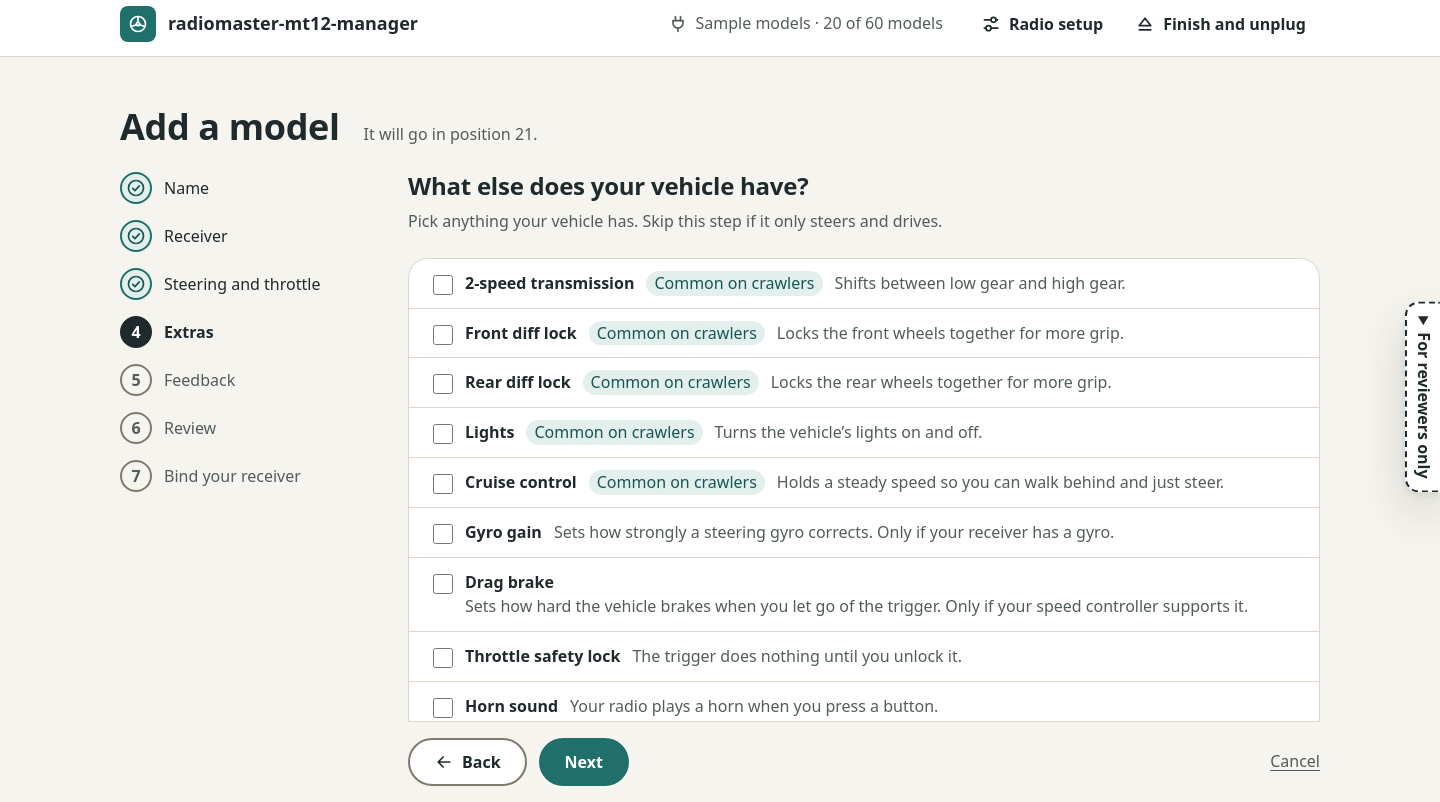
it: Step 4 lists the extras, opens the questions for a picked one, and shows a taken control as taken
Expected: the heading "What else does your vehicle have?" is shown, [408,169,808,202]
Expected: the text "Common on crawlers" is shown 5 times, [646,271,822,296]; [589,321,765,345]; [583,370,759,395]; [526,420,703,445]; [589,470,765,495]
What coordinates should you click on to do the following:
click the checkbox labelled "Lights"
I would click on:
 (443, 434)
Its box is [433,424,453,444].
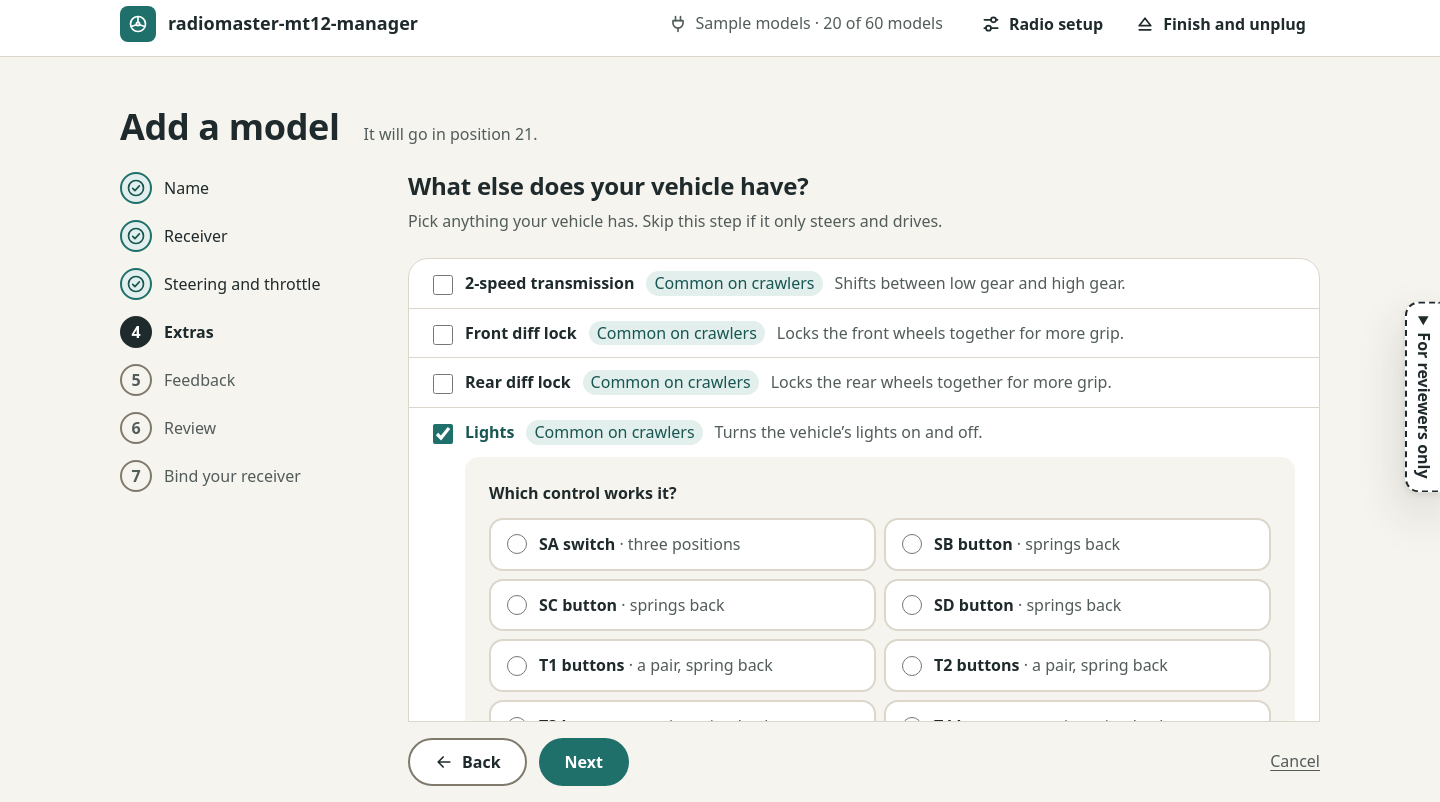
What coordinates should you click on to do the following:
click the radio button labelled "SB button · springs back"
I would click on:
 (912, 544)
Its box is [902,534,922,554].
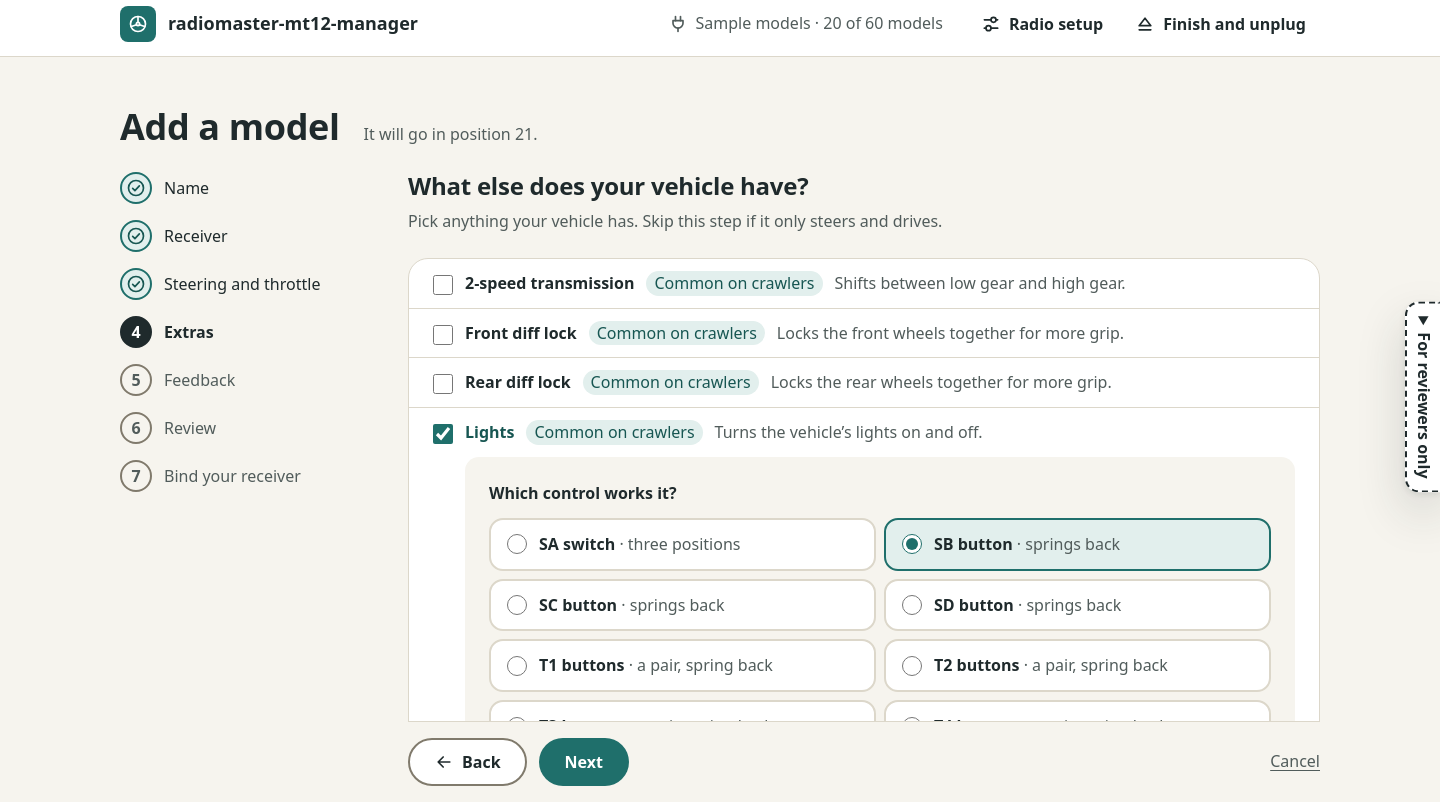
Picking another extra folds Lights down, and its control and port are now taken.
What coordinates should you click on to do the following:
click the checkbox labelled "Front diff lock"
I would click on:
 (443, 335)
Its box is [433,325,453,345].
(page scrolled)
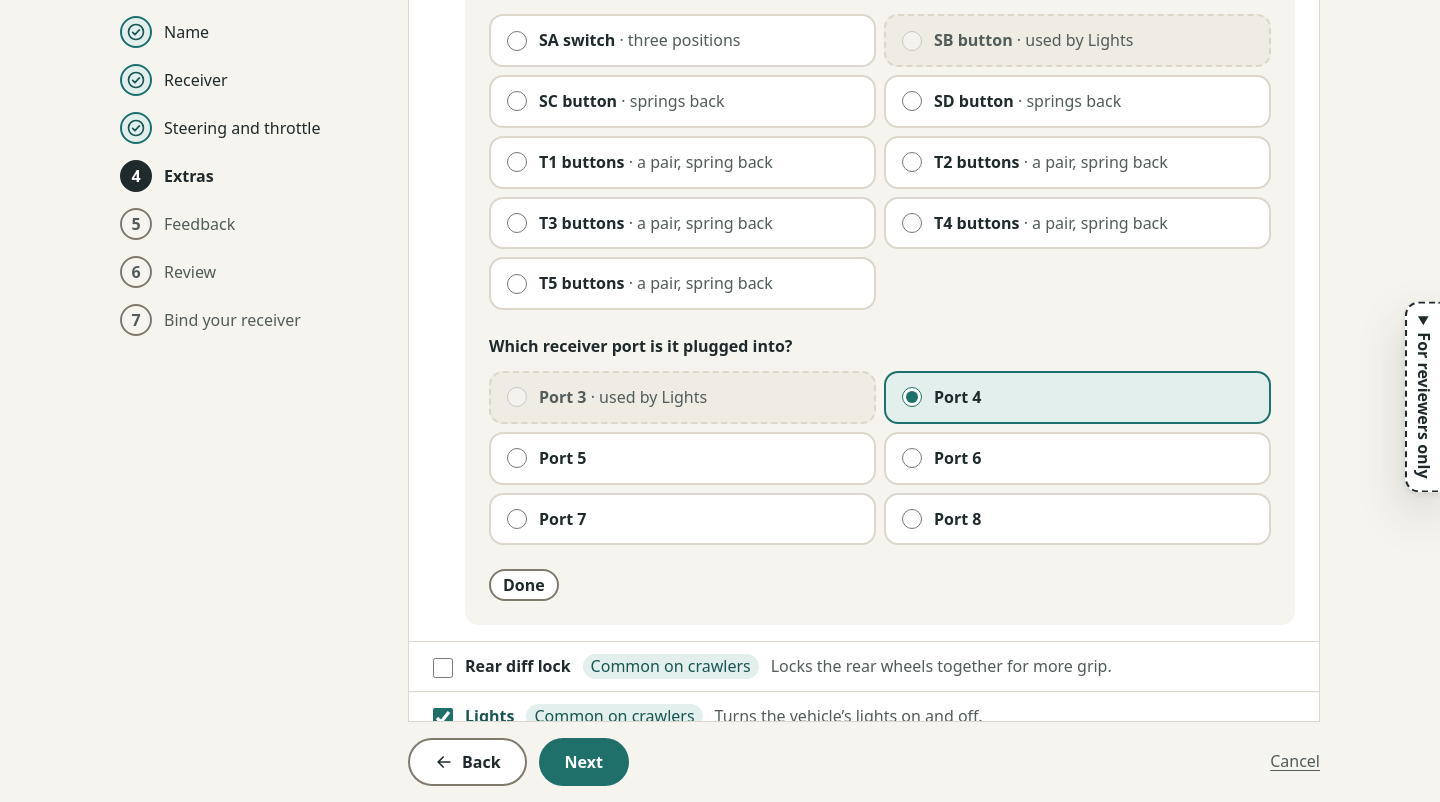
Now the radio button labelled "SB button · used by Lights" is disabled, box [902,31,922,51]
